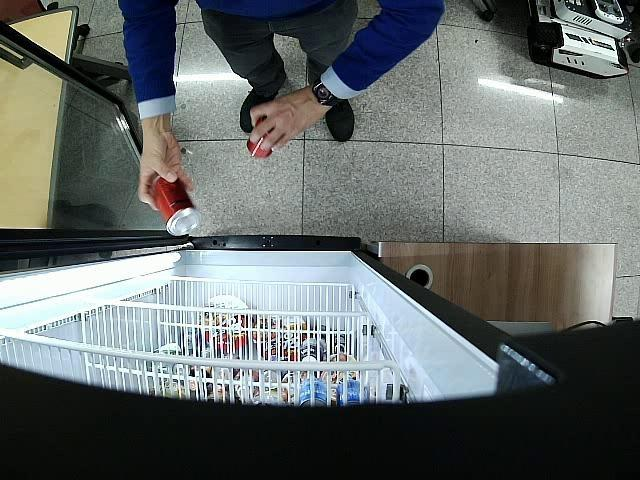11_cocaColaZero: (150, 175, 202, 236), (247, 115, 273, 158)
